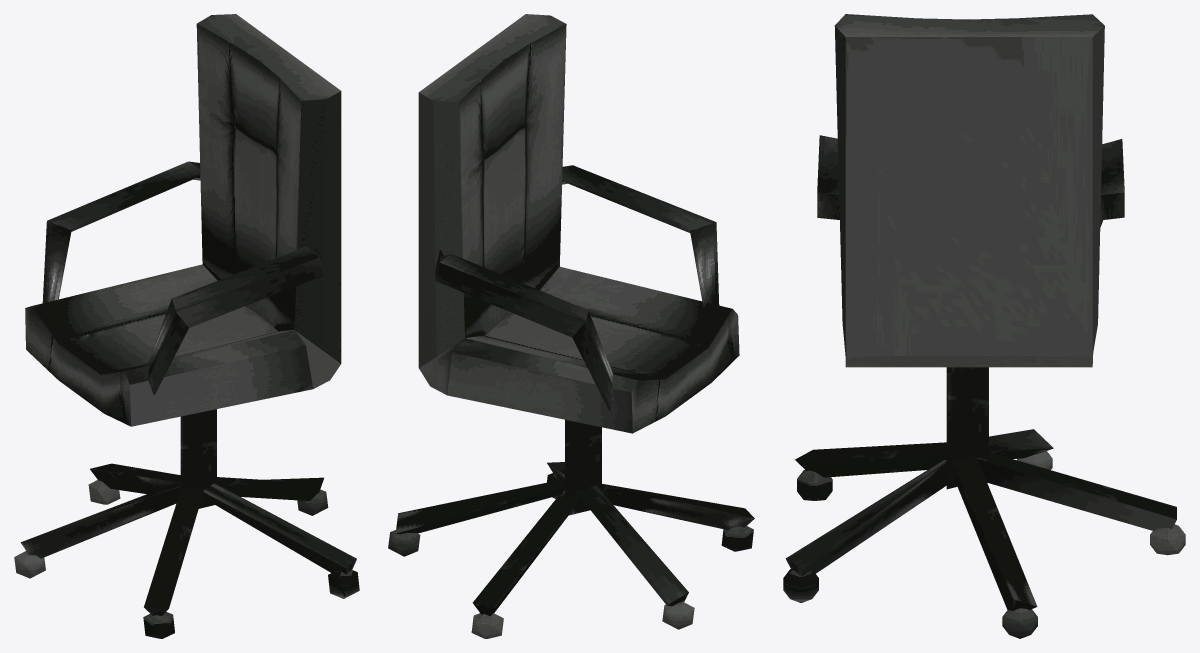
File: psx_office_chair.glb
The picture shows the model from 3 angles, left to right: view 1: azimuth 30°, elevation 25°; view 2: azimuth 150°, elevation 25°; view 3: azimuth 270°, elevation 25°; orthographic projection. The views are drawn at different scales.
Parts seen in each view (by area): view 1: Cylinder; view 2: Cylinder; view 3: Cylinder.
Part boxes in pixels (x1,y1,x2,y2): Cylinder: (14,14,359,638); Cylinder: (388,14,754,638); Cylinder: (783,14,1185,638).
Size of the model in its own units: 0.8636 by 1.33 by 0.8437.
1 material, 1 textured.
